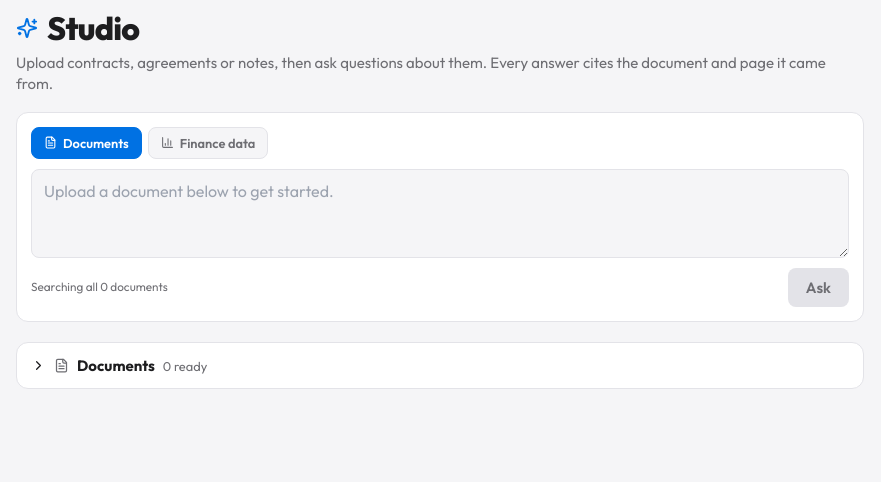
Scenario: Studio data mode › offers starter questions drawn from the datasets the account may query
Click the tab "Finance data".
click(208, 142)  # box top-left (148, 126), bottom-right (268, 158)
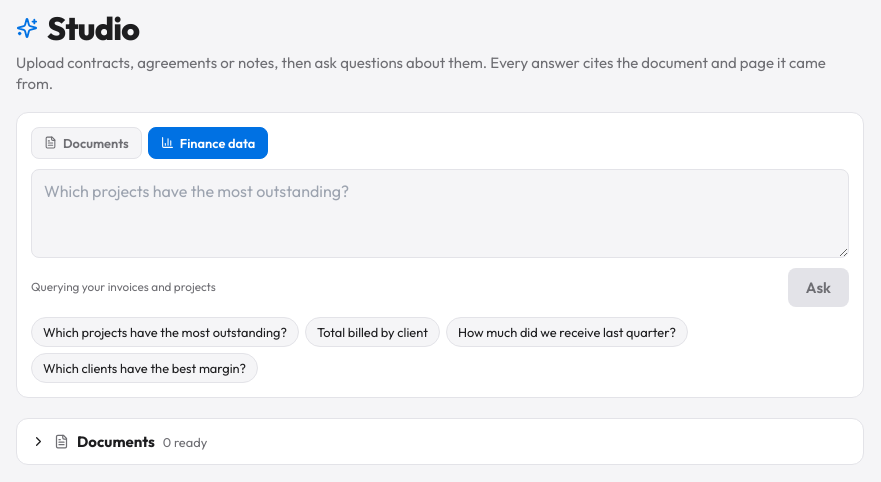
Result: the button "Which projects have the most outstanding?" is shown at top-left (31, 317), bottom-right (299, 347)
Result: the button "Total billed by client" is shown at top-left (305, 317), bottom-right (440, 347)
